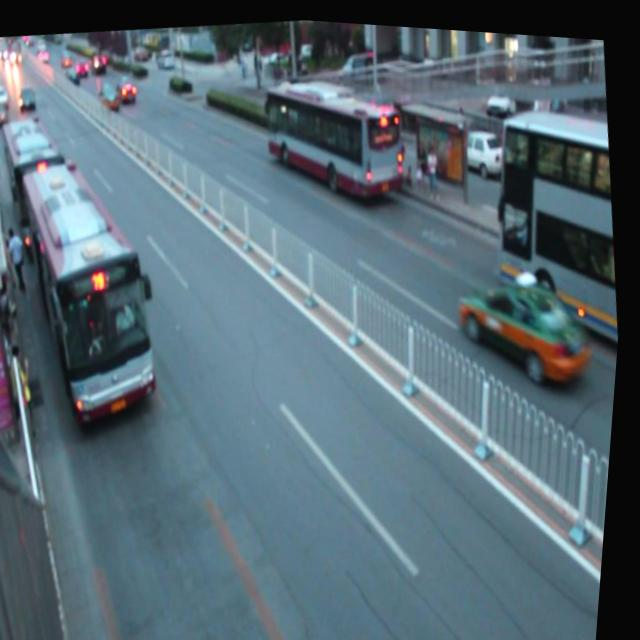car: (452, 255, 601, 393)
van: (6, 155, 178, 423), (487, 96, 636, 349), (259, 66, 411, 207), (0, 116, 81, 249)
